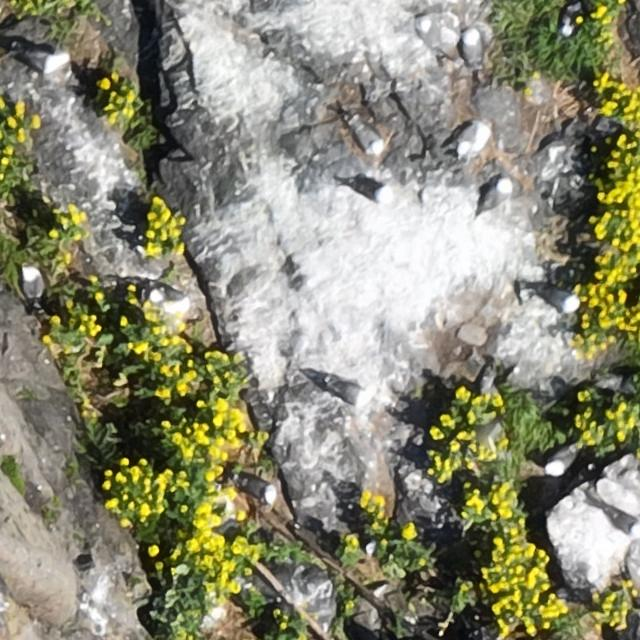umineko: (143, 278, 195, 318), (477, 174, 515, 214), (454, 116, 484, 160), (535, 288, 580, 312), (18, 47, 64, 69), (604, 508, 640, 535), (353, 120, 383, 152), (324, 380, 364, 403), (545, 444, 575, 474), (239, 478, 277, 500), (348, 179, 386, 200), (21, 265, 42, 299), (463, 30, 481, 68), (560, 4, 577, 36)
